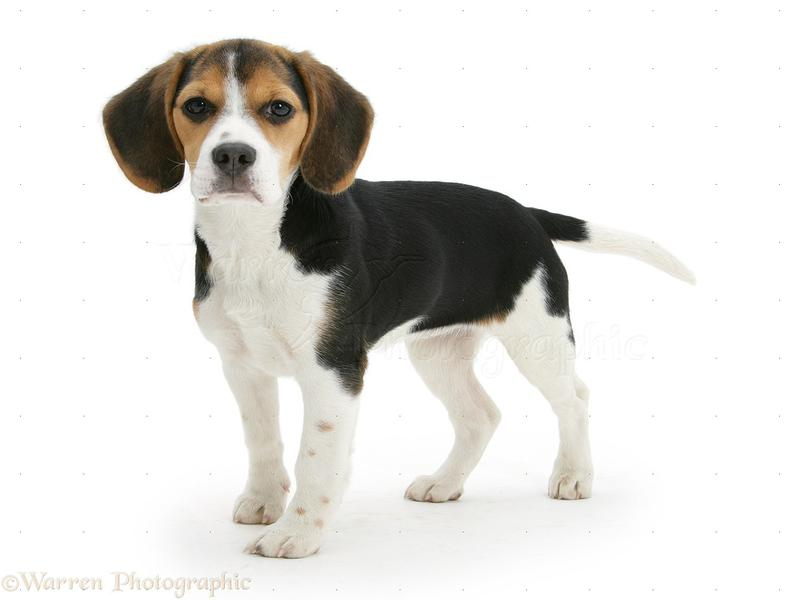dog_stand: (99, 32, 710, 566)
